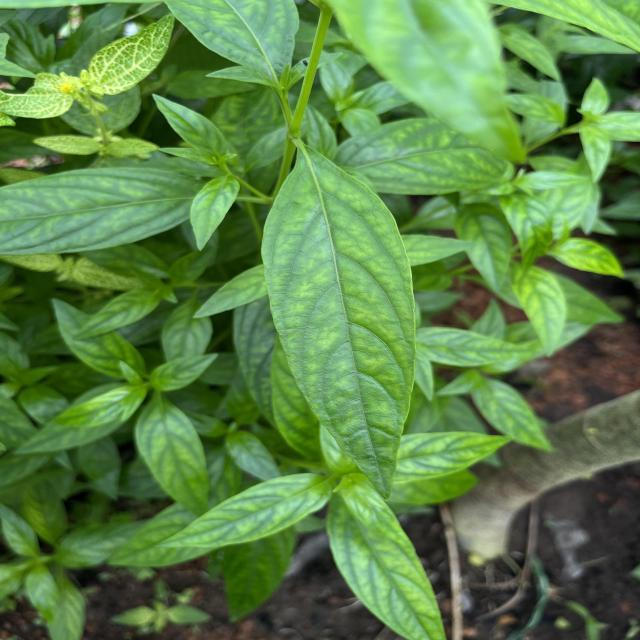Andrographis paniculata: (258, 146, 420, 504), (326, 482, 446, 640), (0, 163, 191, 258), (154, 472, 334, 548), (11, 382, 139, 454), (134, 397, 206, 512), (50, 297, 140, 377), (470, 376, 554, 454), (454, 202, 512, 296), (512, 264, 566, 358), (416, 325, 533, 367), (149, 91, 225, 155), (187, 173, 242, 254), (150, 352, 220, 392)
